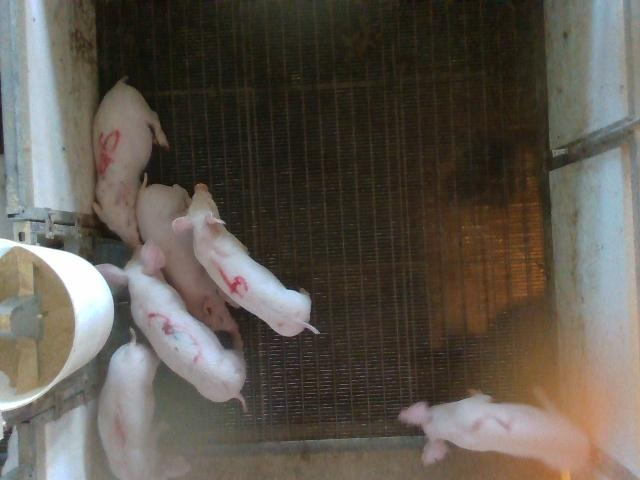pig-1: (98, 329, 160, 479)
pig-2: (399, 394, 590, 471)
pig-3: (96, 243, 248, 406)
pig-4: (174, 185, 319, 336)
pig-5: (92, 78, 169, 242)
